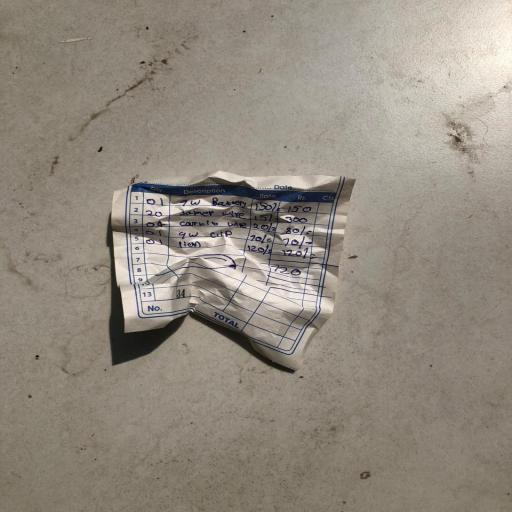waste: (94, 157, 366, 386)
